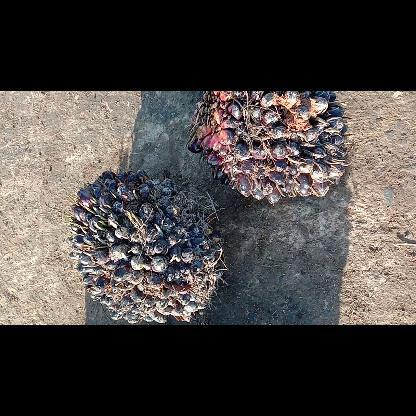TBS mentah: (64, 168, 226, 324), (185, 90, 355, 208)
